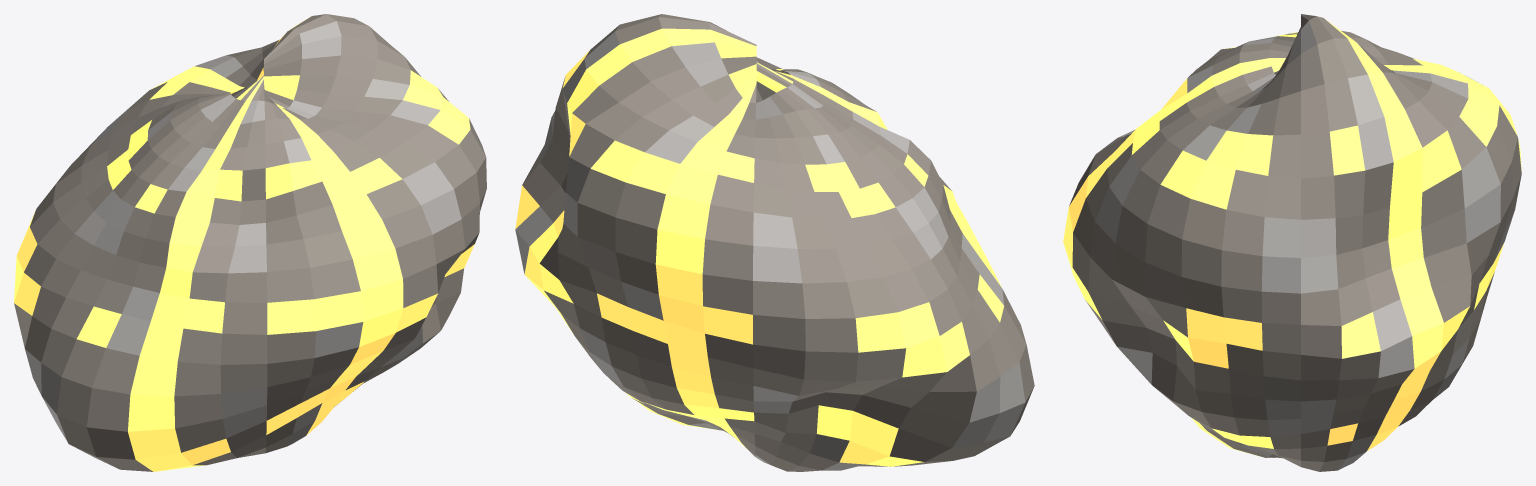
Rendered from asteroid-impactor.glb.
The picture shows the model from 3 angles, left to right: view 1: azimuth 30°, elevation 25°; view 2: azimuth 150°, elevation 25°; view 3: azimuth 270°, elevation 25°; orthographic projection. The views are drawn at different scales.
Visible parts, largest first — view 1: Asteroid_Body; view 2: Asteroid_Body; view 3: Asteroid_Body.
Part boxes in pixels (<box>): Asteroid_Body: <box>14,14,486,471</box>; Asteroid_Body: <box>515,14,1034,471</box>; Asteroid_Body: <box>1063,14,1521,471</box>.
Bounding box in the file's own units: 2.46 × 2.15 × 1.91.
